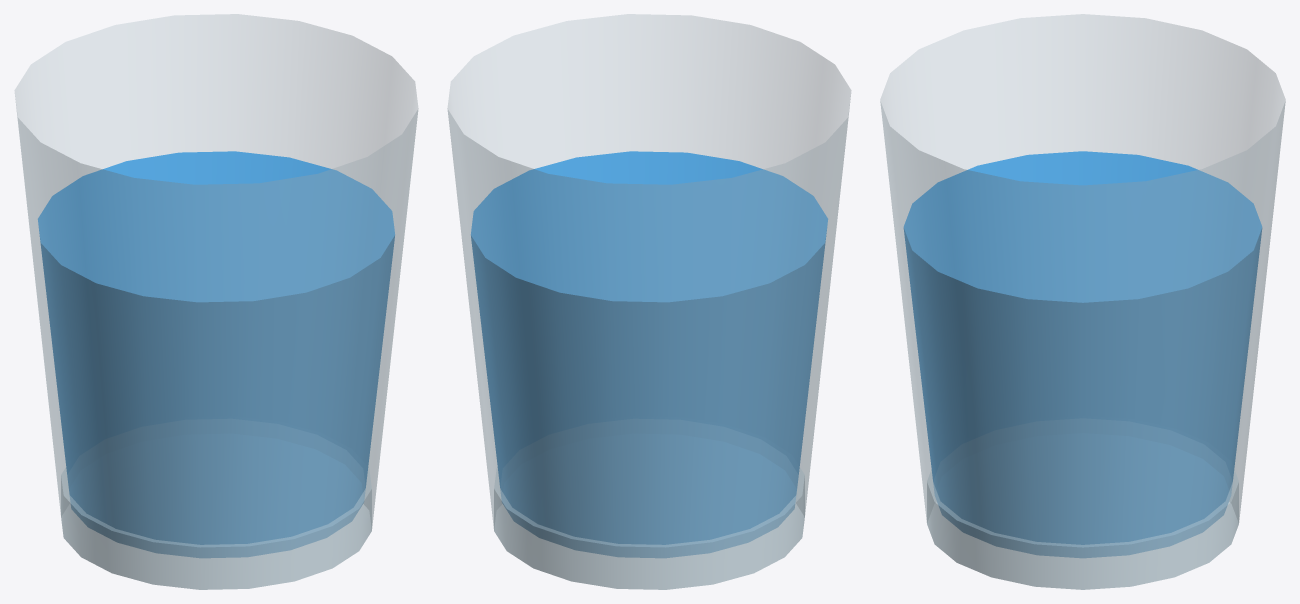
The model's file is glass.glb.
3 views of the same model, side by side, from view 1: azimuth 30°, elevation 25°; view 2: azimuth 150°, elevation 25°; view 3: azimuth 270°, elevation 25° (orthographic).
Parts seen in each view (by area): view 1: cup, water, glass; view 2: cup, water, glass; view 3: cup, water, glass.
Boxes of the visible parts, x1,y1,x2,y2 form: cup: (14,14,418,589); water: (38,151,394,557); glass: (61,467,371,589); cup: (447,14,851,589); water: (471,151,827,557); glass: (494,467,804,589); cup: (880,14,1285,589); water: (903,151,1262,557); glass: (927,470,1238,589).
Bounding box in the file's own units: 0.26 × 0.3 × 0.26.
